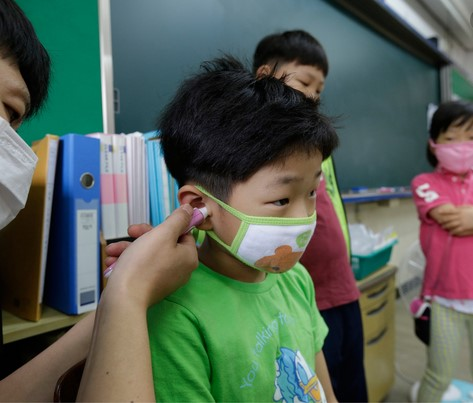face_no_mask: (251, 31, 329, 105)
face_with_mask: (173, 67, 334, 275), (0, 0, 48, 234), (425, 101, 470, 179)
